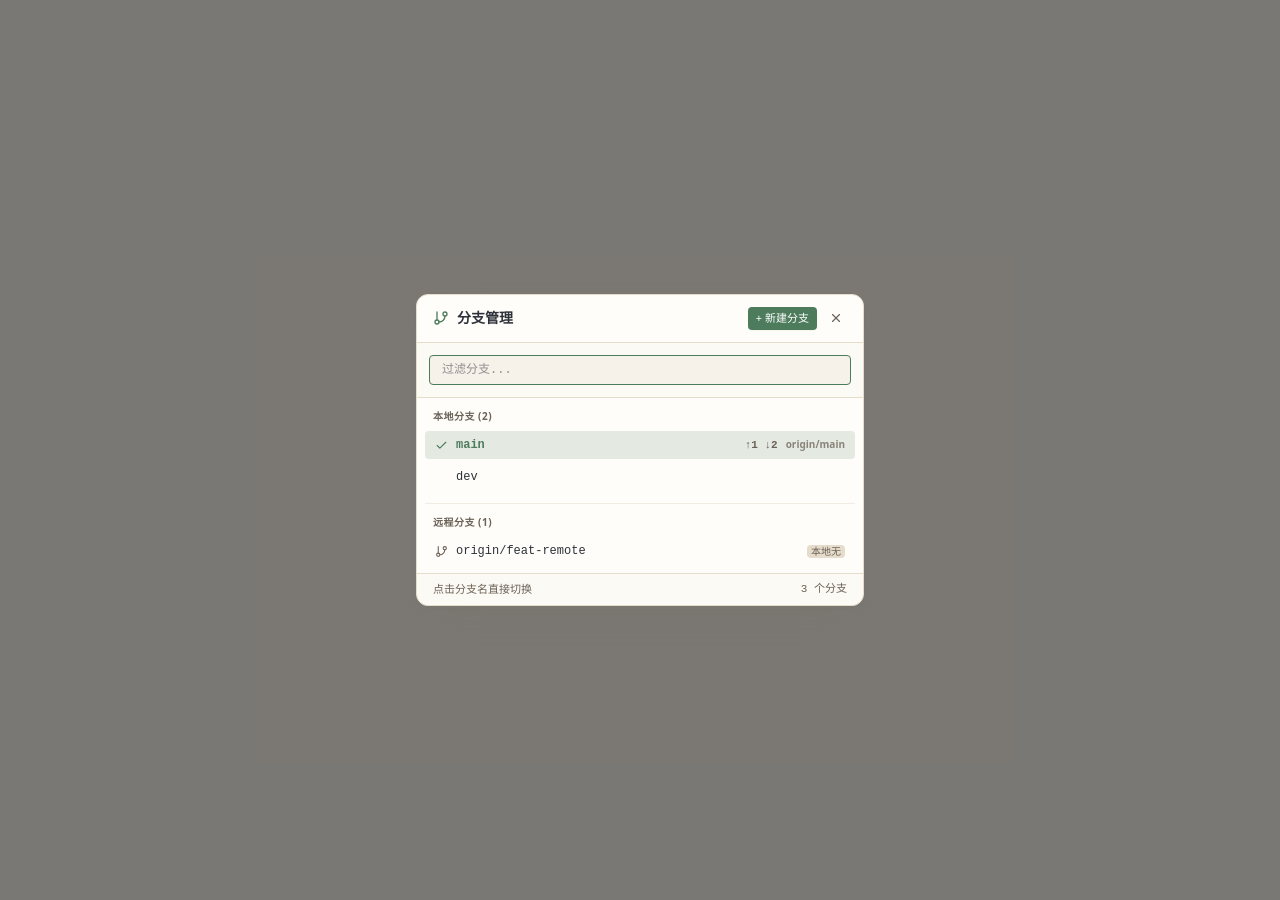
Scenario: BranchModal › filters branch list by keyword
expect the text "main" is shown: met, box [456,437,485,453]
Type "feat" into the field with placeholder "过滤分支..." at point(640, 370), box [429,355,851,385]
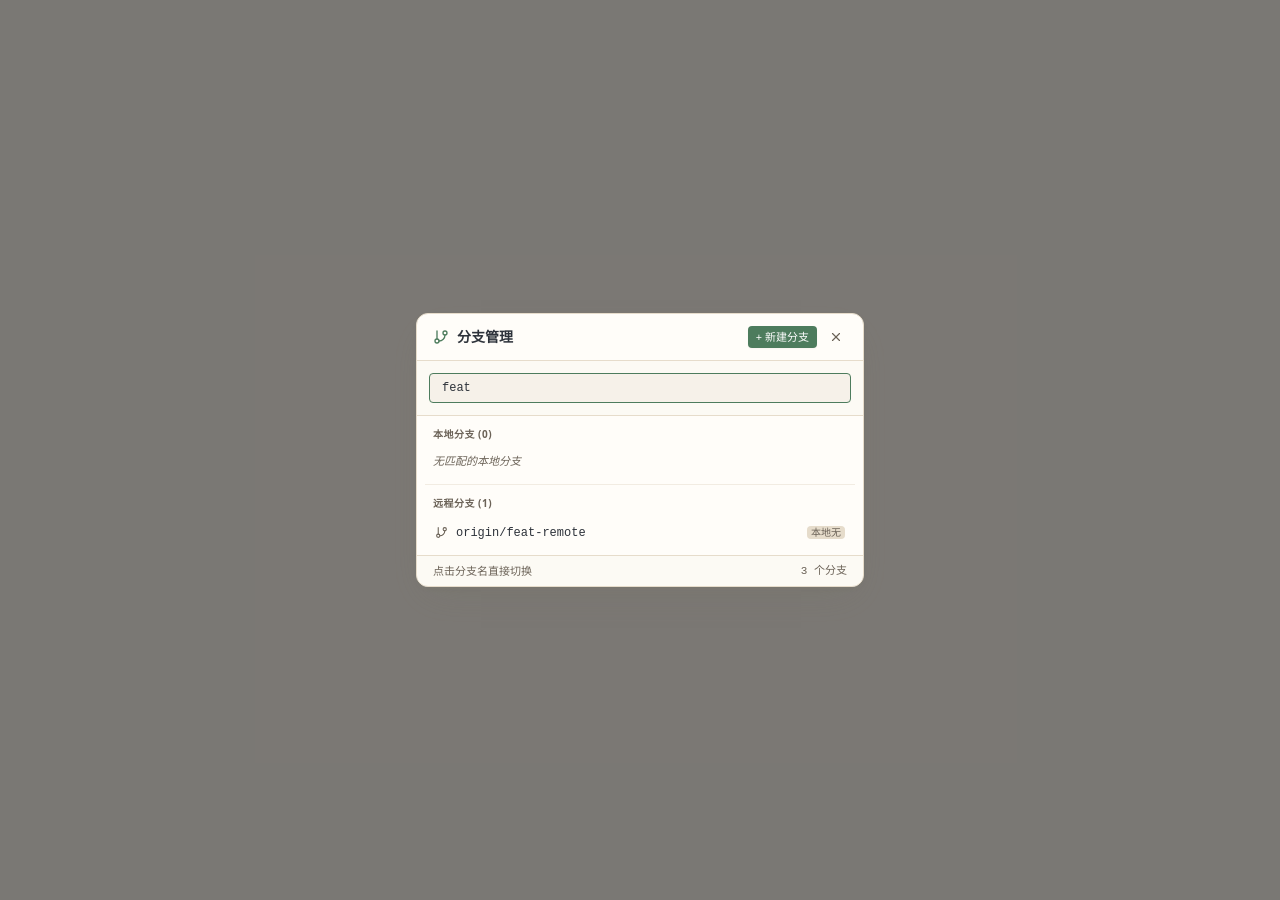
expect the text "origin/feat-remote" is shown: met, box [456,525,586,541]
expect the button "main" is gone: met
expect the button "dev" is gone: met
